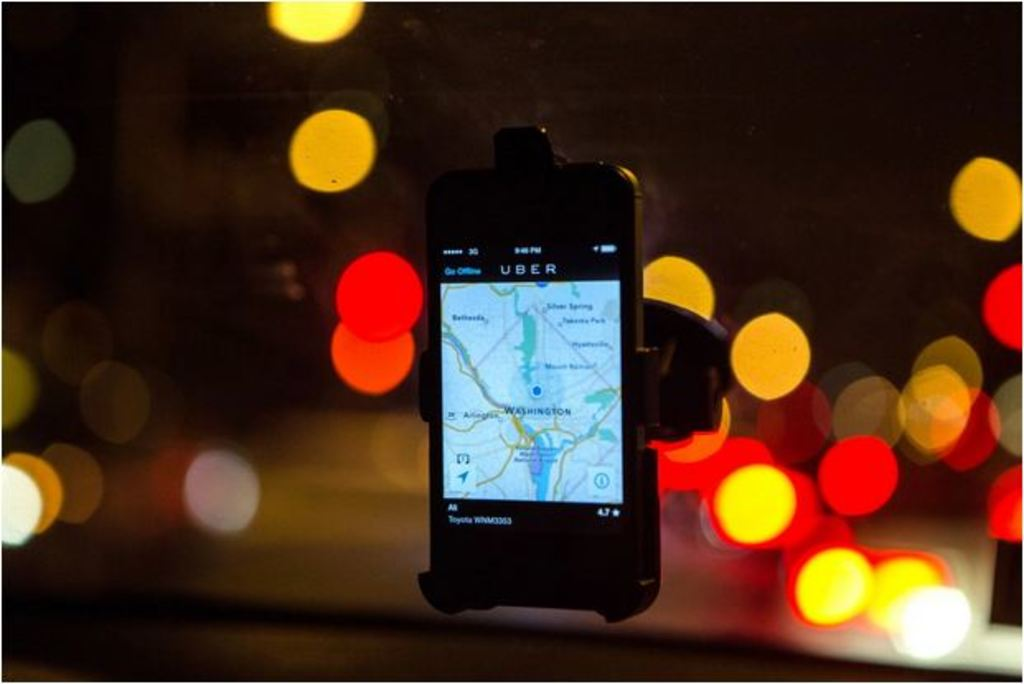Mobile-phone: (408, 134, 665, 612)
